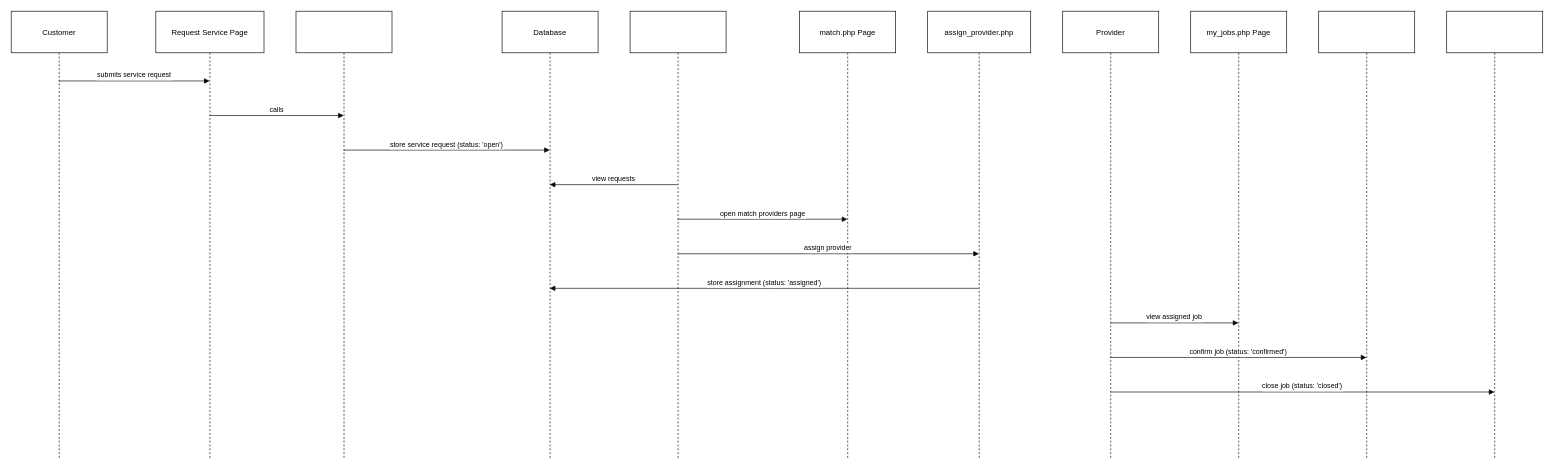
Some shapes in this 1554 by 470 pixel diagram are drawn without their labels. Each missing label, with the box of its shape:
add_request.php: (295, 11, 392, 459)
Admin: (629, 11, 726, 459)
close_job.php: (1446, 11, 1543, 459)
confirm_job.php: (1318, 11, 1415, 459)
